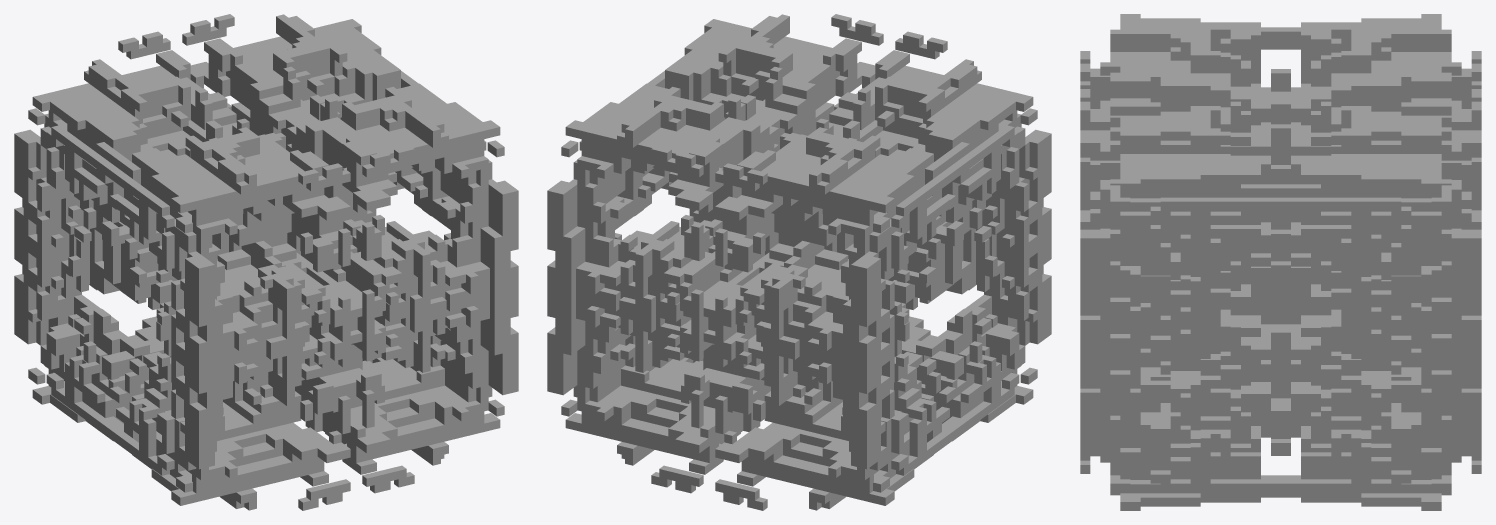
Rendered from 白玻璃.obj.
3 renders of one model, left to right at view 1: azimuth 30°, elevation 25°; view 2: azimuth 150°, elevation 25°; view 3: azimuth 270°, elevation 25°, orthographic. The views are drawn at different scales.
Parts seen in each view (by area): view 1: 白玻璃; view 2: 白玻璃; view 3: 白玻璃.
Boxes of the visible parts, x1,y1,x2,y2 form: 白玻璃: [14, 14, 518, 510]; 白玻璃: [547, 14, 1051, 510]; 白玻璃: [1080, 14, 1481, 510].
Bounding box in the file's own units: 40 × 40 × 40.
1 material, 1 textured.
